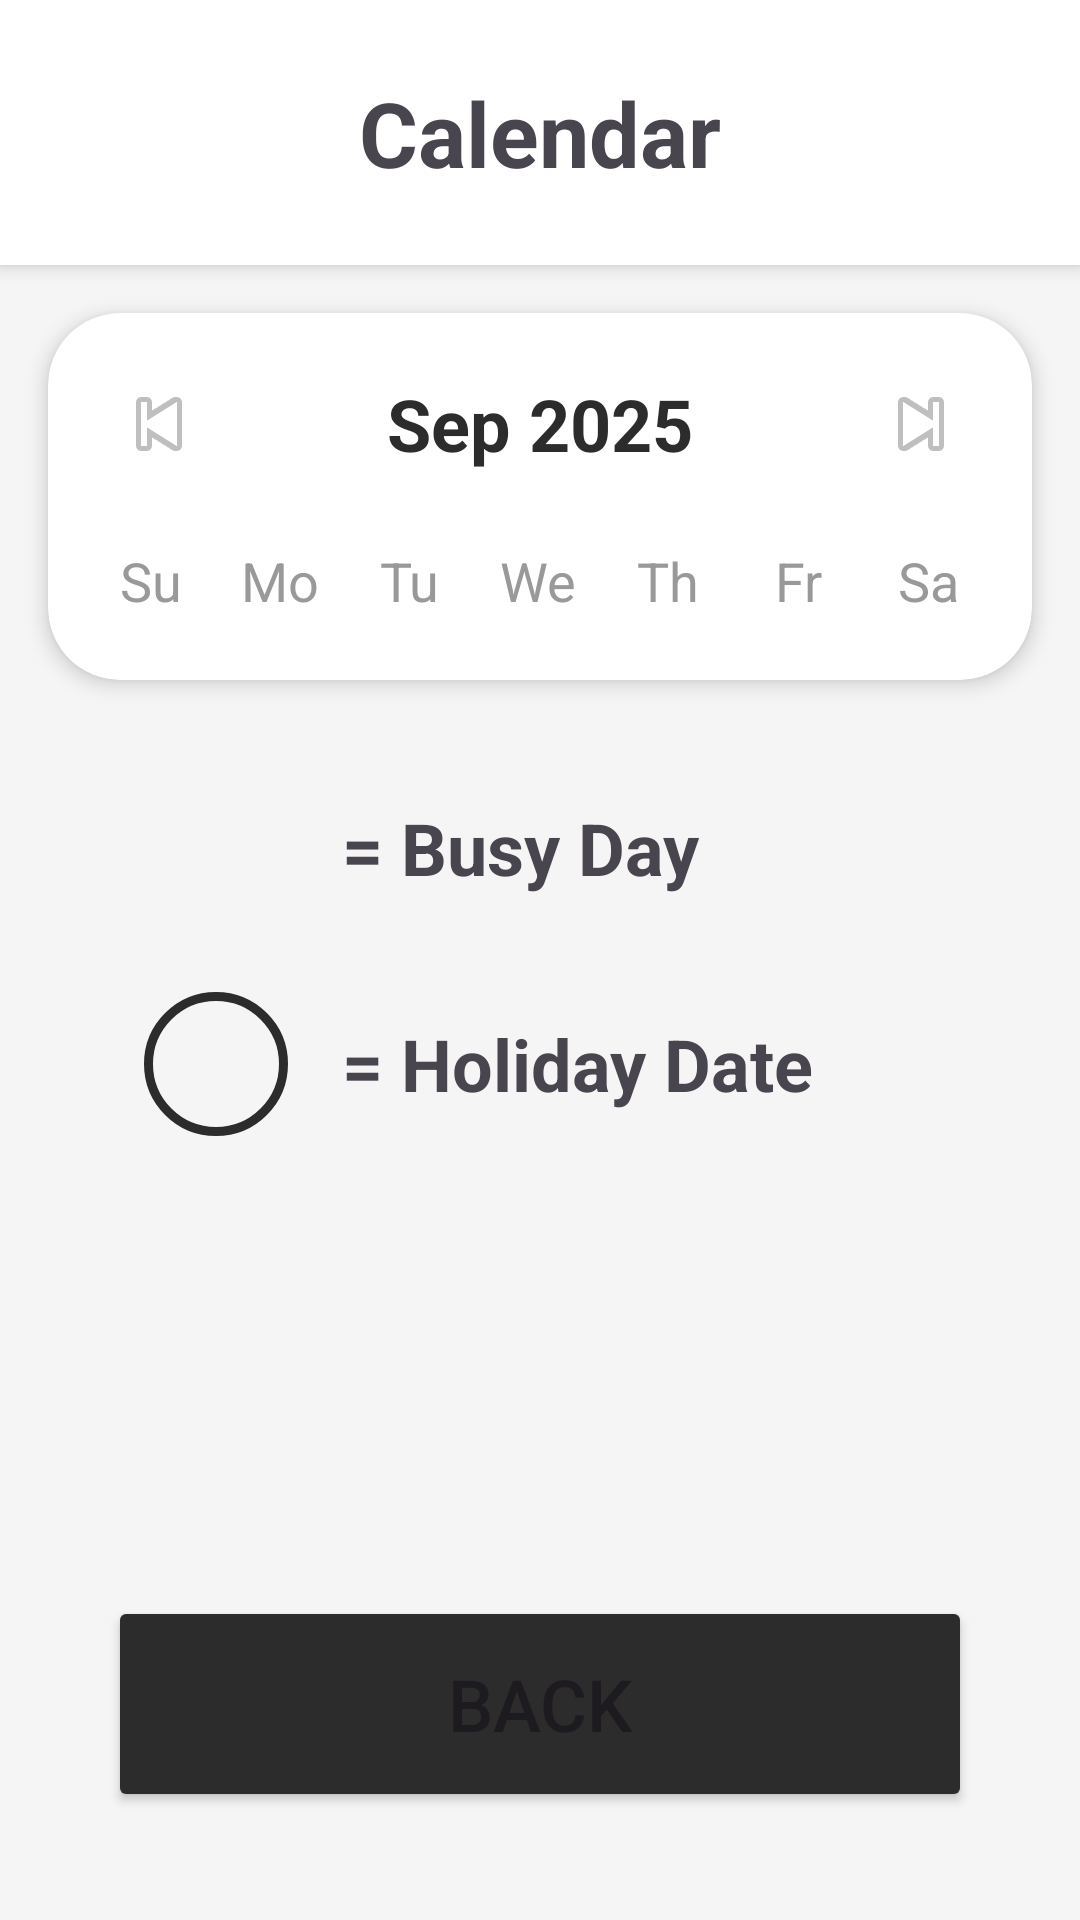

Named icons in this screenshot (1080px x 1920px) and their bounding boxes, (x1, y1, x2, y2):
next: (898, 397, 944, 451)
previous: (136, 397, 182, 451)
